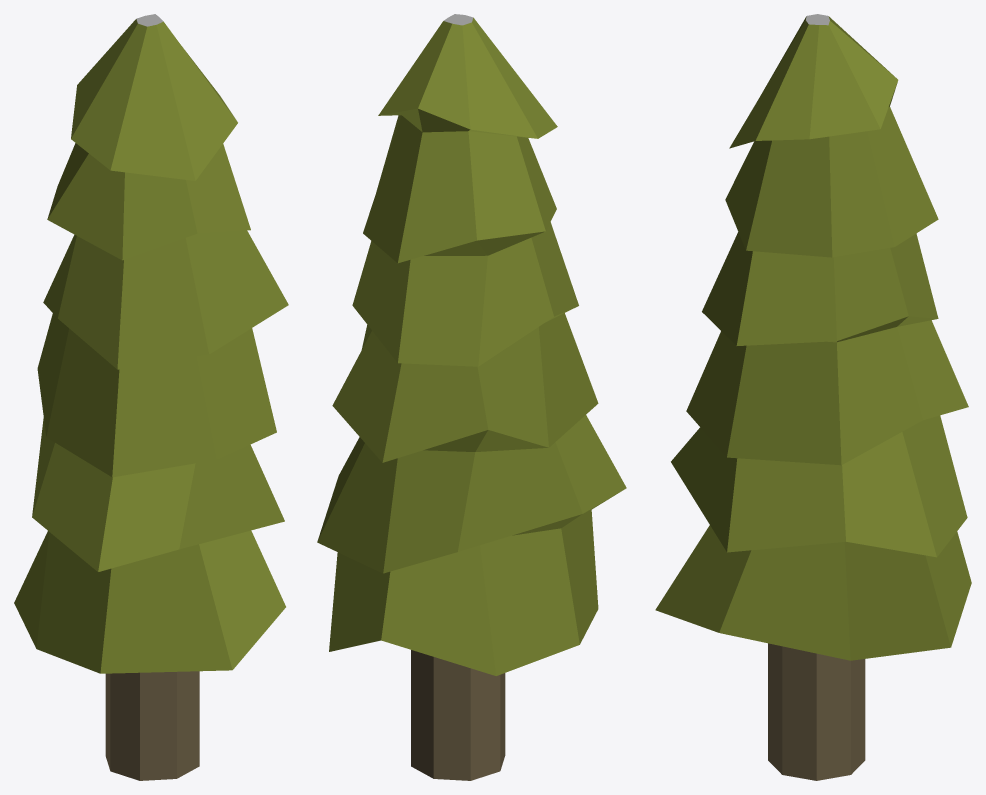
The model's file is Pinetree stylized 1.fbx.
3 views of the same model, side by side, from view 1: azimuth 30°, elevation 25°; view 2: azimuth 150°, elevation 25°; view 3: azimuth 270°, elevation 25° (orthographic).
Visible parts, largest first — view 1: pinetree_cylinder; view 2: pinetree_cylinder; view 3: pinetree_cylinder.
Boxes of the visible parts, box(x1,y1,x2,y2) form: pinetree_cylinder: box(14, 14, 288, 780); pinetree_cylinder: box(317, 14, 626, 780); pinetree_cylinder: box(655, 14, 971, 780).
Bounding box in the file's own units: 1.58 × 4.94 × 1.92.
